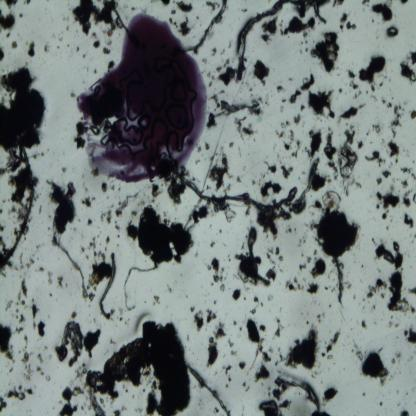Air bubble: (386, 25, 400, 38)
Background material: (86, 318, 191, 416), (0, 150, 37, 271), (0, 65, 45, 150), (126, 206, 193, 263), (314, 191, 360, 258), (236, 227, 277, 289), (88, 254, 118, 319), (44, 176, 78, 232), (72, 0, 116, 37), (338, 128, 362, 194), (286, 327, 318, 372), (310, 30, 340, 74), (356, 349, 389, 383), (386, 270, 411, 314), (307, 90, 336, 121), (280, 15, 317, 37), (375, 242, 404, 270), (207, 155, 230, 190), (359, 56, 387, 84), (8, 168, 29, 204), (324, 128, 338, 181), (58, 386, 82, 415), (206, 258, 225, 293), (0, 149, 25, 175), (233, 116, 257, 143), (250, 342, 273, 370), (0, 323, 15, 363), (259, 397, 292, 415), (320, 332, 340, 361), (304, 128, 322, 160), (252, 58, 271, 87), (83, 329, 102, 358), (256, 212, 278, 237), (16, 346, 32, 380), (167, 178, 187, 205), (374, 191, 401, 209), (244, 318, 262, 345), (390, 105, 404, 138), (216, 202, 238, 223), (367, 276, 387, 299), (310, 258, 328, 282), (74, 120, 87, 153), (371, 3, 393, 22), (252, 91, 278, 107), (399, 61, 416, 85), (261, 179, 282, 198), (205, 336, 218, 366), (5, 384, 27, 401), (218, 64, 235, 86), (72, 362, 90, 382), (320, 386, 338, 405), (364, 150, 384, 167), (0, 11, 16, 32), (192, 206, 209, 225), (346, 66, 359, 90), (179, 14, 192, 38), (339, 13, 357, 30), (286, 278, 305, 294), (338, 106, 358, 121), (262, 16, 277, 36), (115, 199, 130, 217), (272, 383, 288, 399), (300, 75, 316, 91), (195, 309, 206, 332), (256, 364, 270, 382), (387, 140, 400, 159), (55, 344, 68, 363), (290, 139, 302, 159), (390, 347, 402, 366), (281, 164, 295, 180), (402, 328, 416, 344), (314, 308, 326, 326), (210, 91, 221, 110), (403, 211, 414, 230), (213, 322, 226, 338), (18, 280, 29, 298), (357, 0, 371, 14), (260, 31, 273, 46), (206, 113, 218, 129), (288, 90, 302, 103), (264, 162, 279, 174), (67, 353, 79, 368), (204, 1, 220, 12), (305, 283, 321, 294), (206, 307, 217, 323), (275, 317, 283, 338), (150, 186, 162, 200), (31, 300, 39, 320), (101, 212, 113, 225), (402, 192, 412, 207), (36, 323, 46, 338), (27, 41, 36, 57), (275, 246, 284, 262), (232, 287, 242, 301), (42, 42, 52, 56), (80, 196, 92, 207), (288, 128, 296, 144), (3, 0, 19, 8), (293, 112, 302, 126), (226, 365, 233, 383), (45, 270, 53, 285), (382, 98, 392, 110), (100, 181, 110, 193), (296, 233, 306, 245), (275, 128, 285, 140), (106, 59, 115, 72), (352, 88, 362, 99), (275, 84, 285, 95), (24, 385, 34, 396), (23, 334, 29, 352), (0, 397, 7, 412), (399, 166, 412, 174), (382, 168, 392, 178), (16, 313, 26, 323), (381, 210, 390, 221), (409, 108, 416, 122), (57, 275, 64, 289), (332, 0, 344, 8), (288, 226, 296, 238), (238, 360, 246, 372), (410, 51, 416, 66), (3, 300, 12, 310), (36, 366, 45, 376), (298, 262, 308, 271), (92, 39, 102, 48), (372, 124, 381, 134), (101, 48, 112, 56), (37, 352, 44, 364), (401, 178, 408, 190), (280, 119, 292, 126), (9, 41, 18, 50), (259, 323, 268, 332), (399, 408, 409, 416), (153, 295, 160, 306), (91, 238, 96, 253), (14, 326, 23, 334), (228, 338, 234, 350), (376, 175, 382, 187), (409, 286, 416, 296), (0, 46, 4, 63), (410, 171, 416, 182), (230, 350, 238, 358), (37, 266, 45, 274), (4, 31, 12, 39), (70, 311, 78, 319), (361, 320, 368, 329), (283, 142, 290, 151), (45, 371, 50, 382), (204, 141, 210, 150), (23, 0, 32, 6), (400, 0, 410, 5), (86, 219, 93, 226), (71, 92, 78, 99), (370, 84, 376, 92), (410, 307, 416, 315), (18, 11, 24, 19), (211, 48, 217, 56), (379, 399, 385, 407), (300, 104, 306, 112), (232, 320, 238, 327), (254, 296, 260, 303), (413, 192, 416, 204), (106, 238, 110, 247), (163, 0, 172, 4), (190, 306, 196, 312), (281, 97, 287, 103), (210, 239, 214, 248), (228, 142, 234, 148), (338, 87, 343, 94)
Cellulose filter fibre: (235, 1, 326, 82), (176, 162, 319, 210), (52, 230, 89, 300), (185, 365, 232, 415), (185, 0, 227, 53), (123, 264, 158, 314), (276, 374, 322, 412), (58, 323, 85, 354), (218, 100, 260, 118), (333, 258, 345, 304), (85, 392, 105, 415), (110, 5, 126, 32)
Fragment: (149, 245, 173, 266)
Pen: (77, 11, 206, 181)
